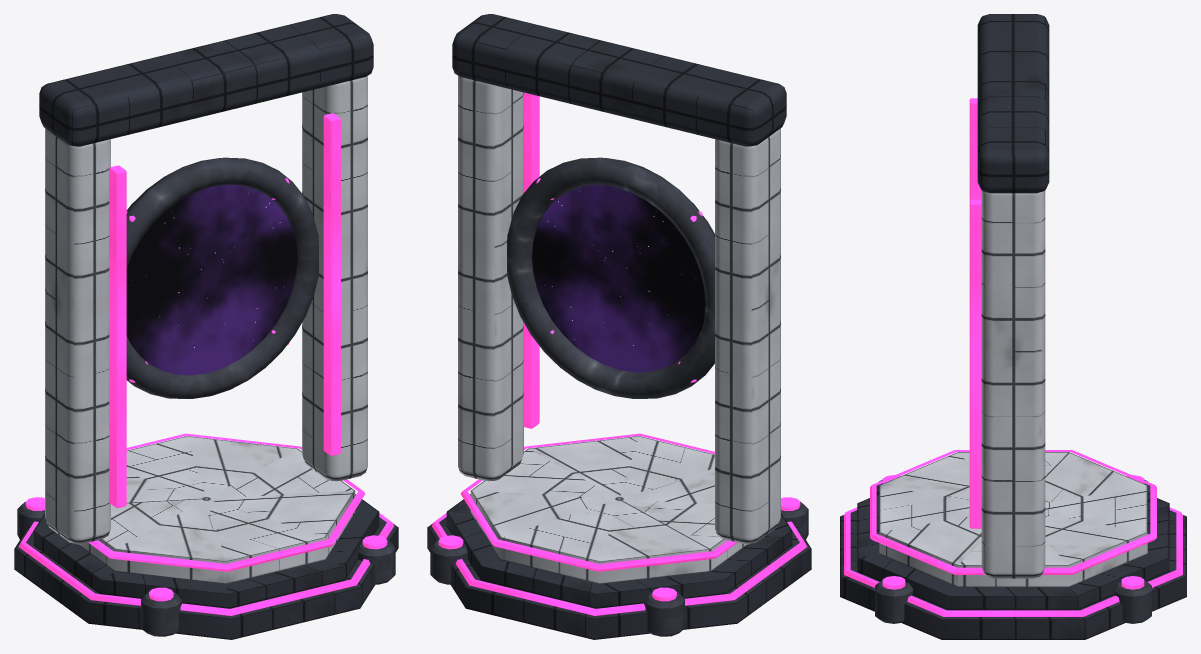
Rendered from sf_riftgate.glb.
3 renders of one model, left to right at view 1: azimuth 30°, elevation 25°; view 2: azimuth 150°, elevation 25°; view 3: azimuth 270°, elevation 25°, orthographic. The views are drawn at different scales.
Parts seen in each view (by area): view 1: Base, Turret, Ring; view 2: Base, Turret, Ring; view 3: Base.
Boxes of the visible parts, x1,y1,x2,y2 form: Base: [14, 14, 398, 639]; Turret: [126, 184, 297, 375]; Ring: [126, 157, 318, 398]; Base: [427, 14, 811, 639]; Turret: [532, 184, 705, 372]; Ring: [507, 157, 714, 398]; Base: [840, 14, 1186, 639].
Size of the model in its own units: 0.8684 by 1.34 by 0.8684.
Materials: 5 (5 with a texture image).
